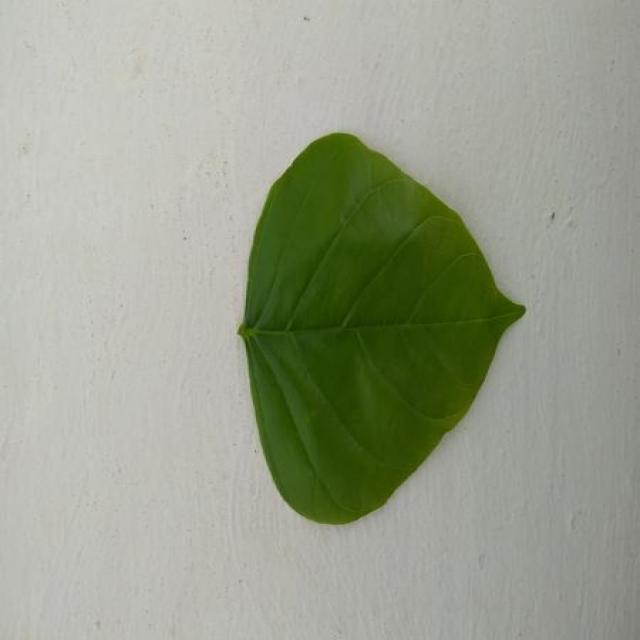honge: (240, 134, 525, 523)
